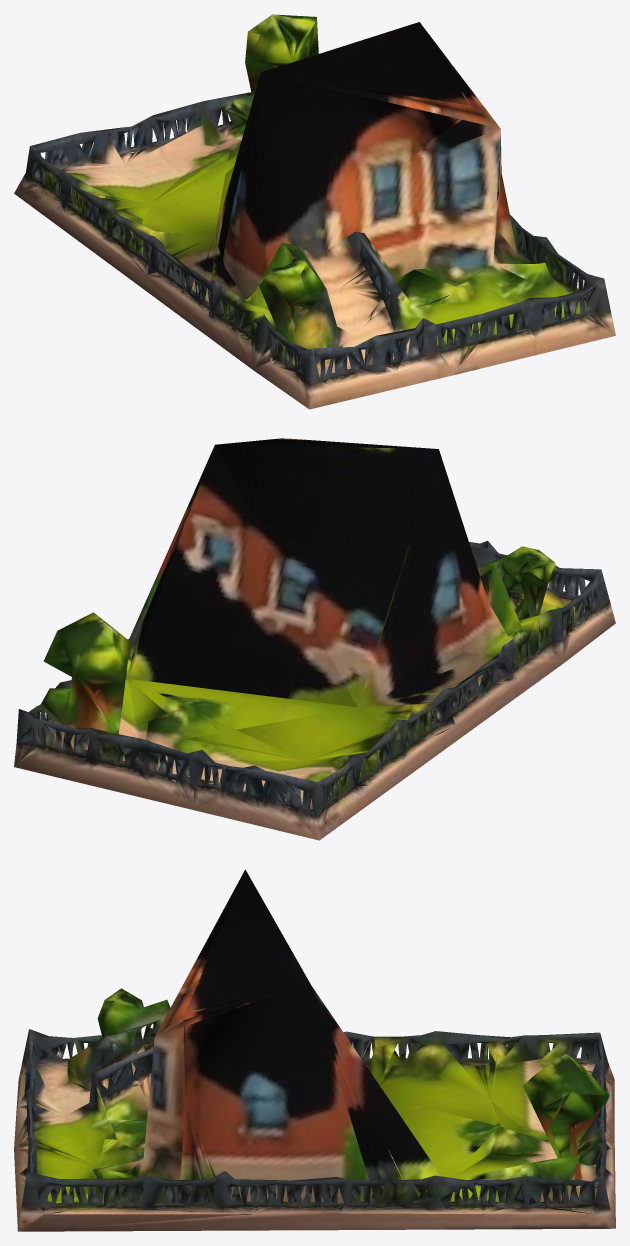
File: house-townhouse.far.glb
The picture shows the model from 3 angles, top to bottom: view 1: azimuth 30°, elevation 25°; view 2: azimuth 150°, elevation 25°; view 3: azimuth 270°, elevation 25°; orthographic projection.
Visible parts, largest first — view 1: low; view 2: low; view 3: low.
Part boxes in pixels (bbox=[...]): low: bbox=[14, 14, 615, 409]; low: bbox=[14, 438, 615, 840]; low: bbox=[14, 869, 615, 1231].
Size of the model in its own units: 0.5941 by 0.4387 by 0.9861.
Materials: 1 (1 with a texture image).
